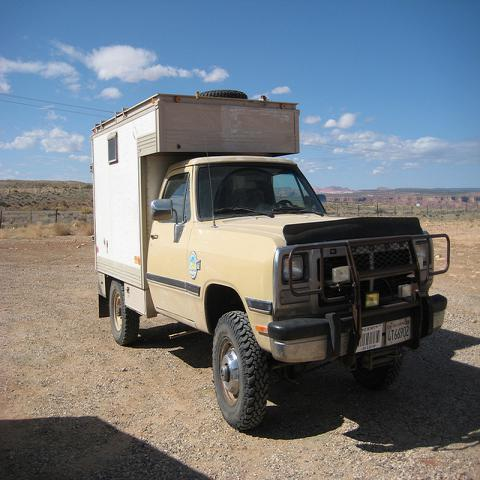truck: (90, 91, 452, 429)
